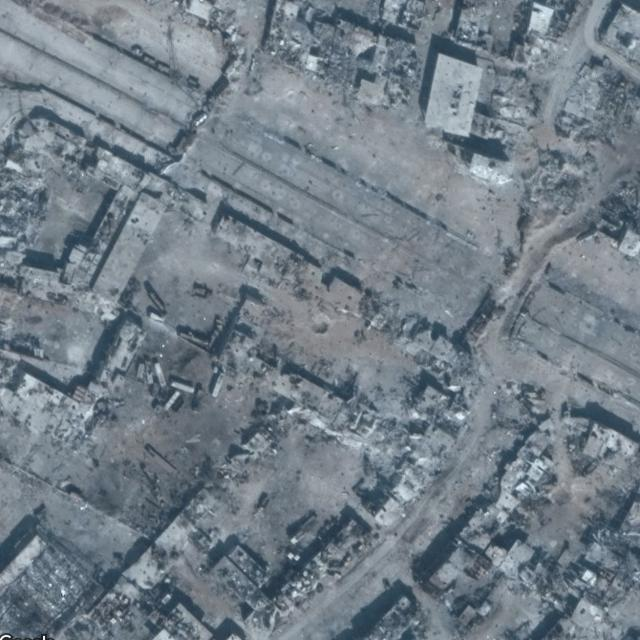damaged_building: (0, 121, 637, 637), (129, 1, 640, 262)
